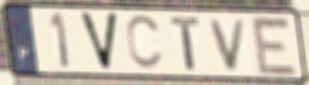1: (48, 11, 71, 70)
C: (124, 13, 166, 72)
E: (248, 14, 300, 78)
T: (169, 16, 203, 72)
V: (76, 10, 121, 73), (207, 17, 249, 73)
